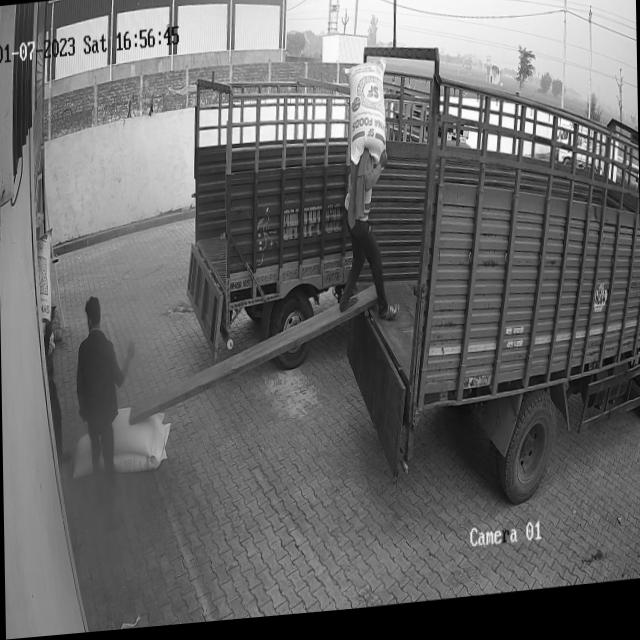sack: (343, 64, 386, 171), (111, 405, 166, 460), (111, 425, 171, 474)
